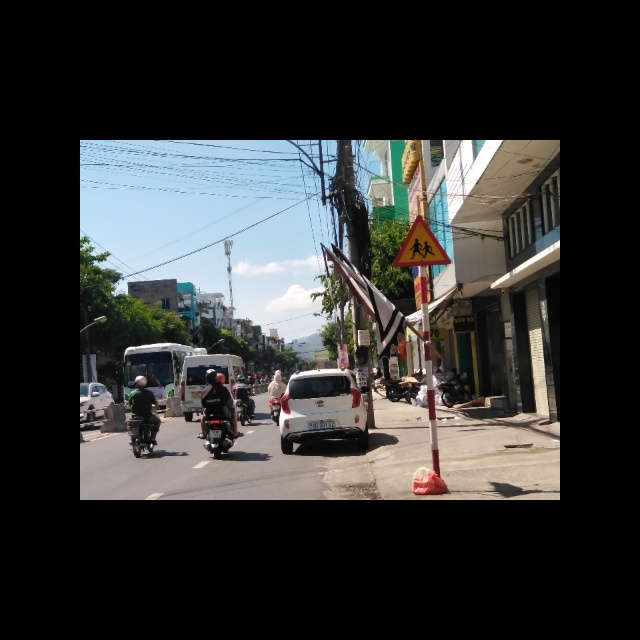Trẻ em ngang qua: (390, 213, 453, 267)
